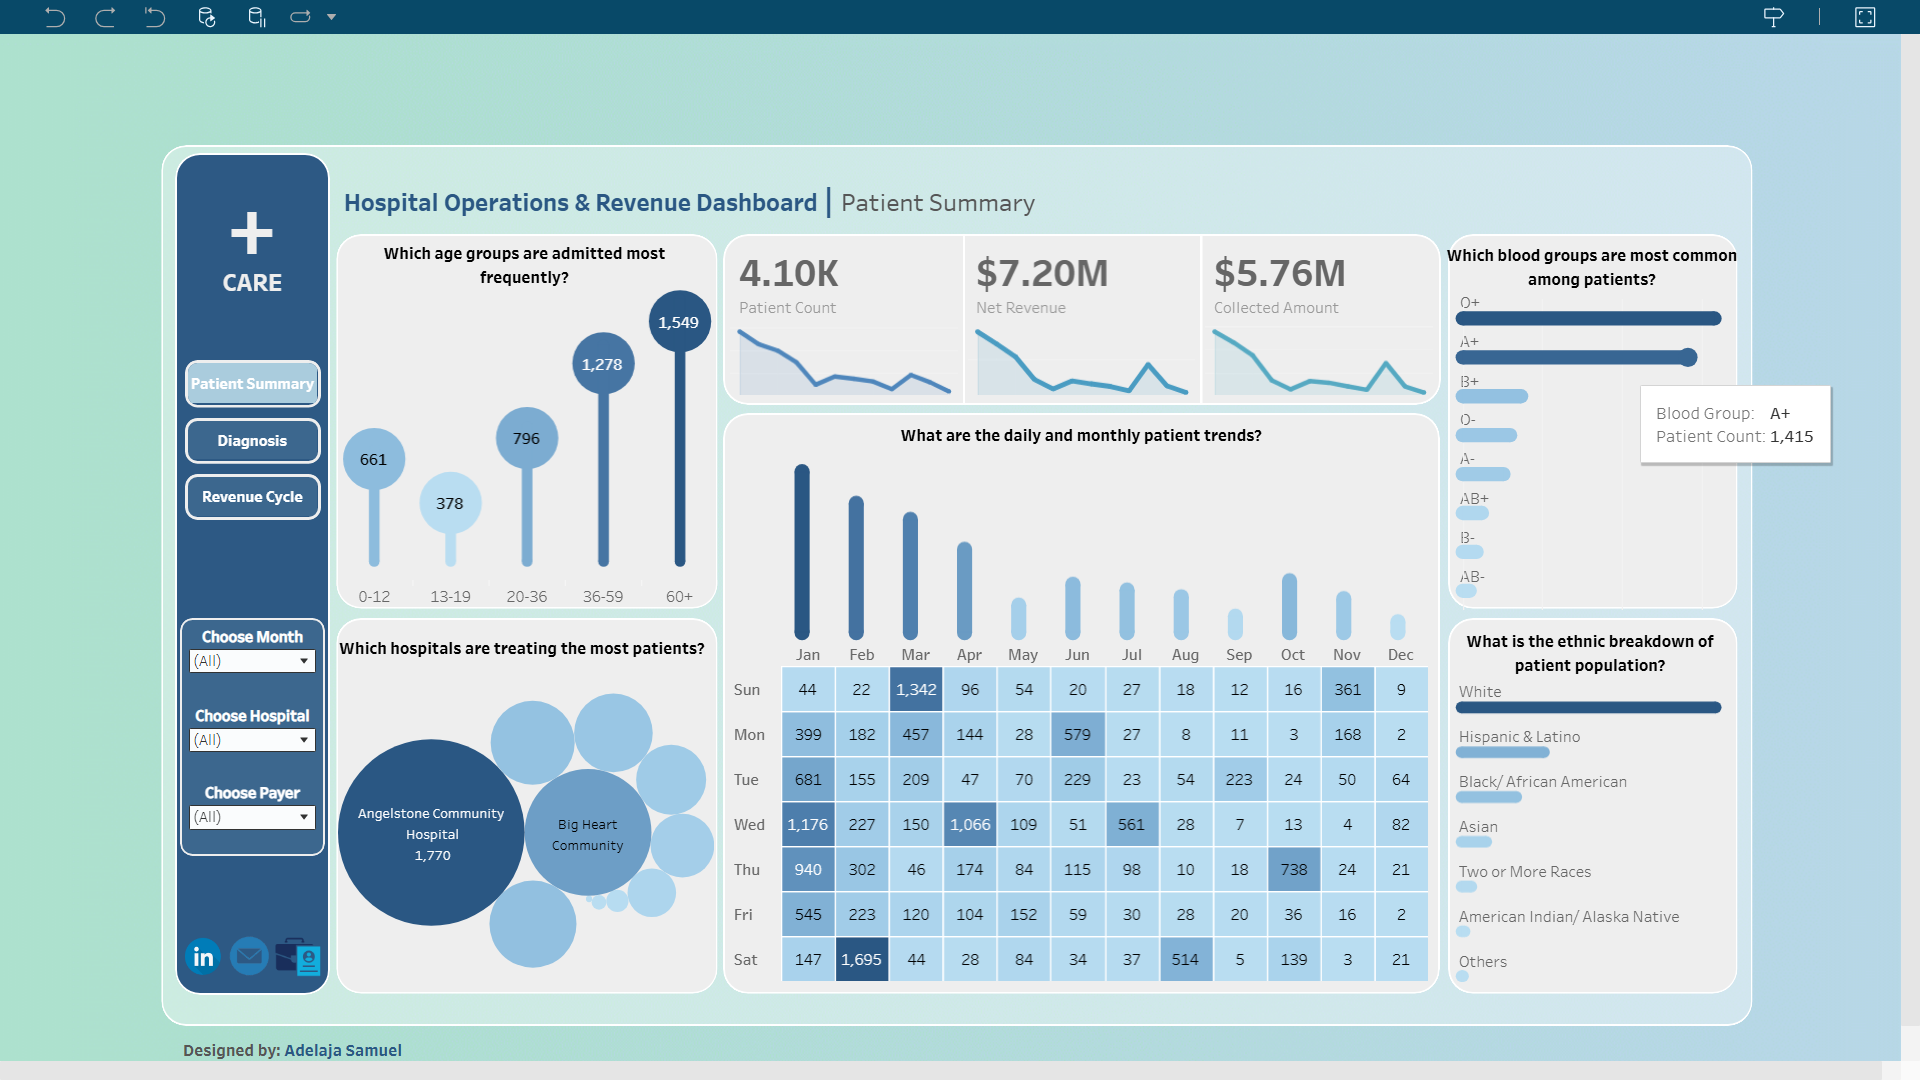

What the dashboard file says about the page in this screenshot:
{"tool":"tableau","page":{"name":"Patient Summary","canvas":[1000,1000],"units":"permille","ordinal":2},"visuals":[{"type":"text","box":[179.2,116.3,414,78.7]},{"type":"text","box":[92.9,142.2,76.6,79.9]},{"type":"worksheet","title":"Patient Count","mark":"Automatic","box":[379.7,182.2,123.4,100.7]},{"type":"worksheet","title":"Net Revenue","mark":"Automatic","box":[503.1,182.2,123.4,100.7]},{"type":"worksheet","title":"Collected Amount","mark":"Automatic","box":[626.6,182.2,123.4,100.7]},{"type":"text","box":[752,184.5,154.5,69.3]},{"type":"text","box":[175.6,186.8,194.9,61.1]},{"type":"blank","box":[501.5,188,1.2,159.8]},{"type":"blank","box":[625.2,188,1.2,159.8]},{"type":"text","box":[93.5,212.7,75.4,40]},{"type":"worksheet","title":"Age Group","mark":"Line","rows":["Calculation_0639937944064003"],"box":[175,231.5,198.6,309.1]},{"type":"worksheet","title":"BG Label","mark":"Shape","rows":["BloodGroup"],"box":[756.2,233.8,23.5,294.9]},{"type":"worksheet","title":"Blood Grouping","mark":"Line","rows":["BloodGroup"],"box":[751.4,249.1,151.5,293.8]},{"type":"worksheet","title":"Patient Count Spark","mark":"Line","rows":["Calculation_0639937944064003","Calculation_0639937944064003"],"cols":["Month"],"box":[377.8,270.3,123.6,74]},{"type":"worksheet","title":"Net Revenue Spark","mark":"Area","rows":["Calculation_0346372984979461","Calculation_0346372984979461"],"cols":["Month"],"box":[501.4,270.3,123.6,74]},{"type":"worksheet","title":"Collected Amt Spark","mark":"Automatic","rows":["Calculation_0870012787228673","Calculation_0870012787228673"],"cols":["Month"],"box":[625,270.3,123.6,74]},{"type":"dashboard-object","box":[93.2,302,76.6,53.7]},{"type":"text","box":[428.5,341.9,269.2,69.3]},{"type":"dashboard-object","box":[93.2,355.7,76.6,53.7]},{"type":"worksheet","title":"Patient Monthly","mark":"Line","cols":["Month"],"box":[403.9,397.2,338.4,181]},{"type":"dashboard-object","box":[93.2,409.4,76.6,52.7]},{"type":"worksheet","title":"Filters","mark":"Automatic","box":[408,455.9,333.1,332.6]},{"type":"text","box":[174.4,547.6,194.9,61.1]},{"type":"text","box":[753.2,548.8,149.7,69.3]},{"type":"filter","title":"Filters","param":"[federated.0z8uwsd0tka1uq18ebl20149izpv].[none:Month:nk]","box":[94.8,552.2,74,73.8]},{"type":"worksheet","title":"Patient Weekly-Monthly","mark":"Square","rows":["DayName"],"cols":["Date"],"box":[378.4,572.3,365.1,319.6]},{"type":"worksheet","title":"Race Label","mark":"Shape","rows":["Ethinicity"],"box":[755.6,598.1,149.1,296.1]},{"type":"worksheet","title":"Hospital Visits","mark":"Circle","box":[175.6,599.3,196.1,302]},{"type":"worksheet","title":"Race","mark":"Line","rows":["Ethinicity"],"box":[751.4,613.4,151.5,293.8]},{"type":"filter","title":"Filters","param":"[federated.0z8uwsd0tka1uq18ebl20149izpv].[none:LocationName:nk]","box":[94.8,626.1,74,73.8]},{"type":"filter","title":"Filters","param":"[federated.0z8uwsd0tka1uq18ebl20149izpv].[none:PayerName:nk]","box":[94.8,699.9,74,72.9]},{"type":"image","param":"C:/Users/HomePC/Pictures/Projects/socials/trans gmail.png","box":[107.4,828.4,44.7,78.7]},{"type":"image","param":"C:/Users/HomePC/Pictures/Projects/socials/social_16033412.png","box":[96.6,847.2,18.7,42.3]},{"type":"image","param":"C:/Users/HomePC/Pictures/Projects/socials/portfolio_18526710.png","box":[143,847.2,24.1,43.5]},{"type":"text","box":[81.5,937.7,141.8,35.2]}]}

Visuals, with their boxes on the dashboard's canvas, which has no fixed pixel size, in thousandths of its width and height (x1, y1, x2, y2). These are canvas units, not pixel positions in the 1920x1080 screenshot, which may show the page scaled, cropped or inside an application window:
text: l=179, t=116, r=593, b=195
text: l=93, t=142, r=170, b=222
"Patient Count" worksheet: l=380, t=182, r=503, b=283
"Net Revenue" worksheet: l=503, t=182, r=626, b=283
"Collected Amount" worksheet: l=627, t=182, r=750, b=283
text: l=752, t=184, r=906, b=254
text: l=176, t=187, r=370, b=248
blank: l=502, t=188, r=503, b=348
blank: l=625, t=188, r=626, b=348
text: l=94, t=213, r=169, b=253
"Age Group" worksheet (Line marks): l=175, t=232, r=374, b=541
"BG Label" worksheet (Shape marks): l=756, t=234, r=780, b=529
"Blood Grouping" worksheet (Line marks): l=751, t=249, r=903, b=543
"Patient Count Spark" worksheet (Line marks): l=378, t=270, r=501, b=344
"Net Revenue Spark" worksheet (Area marks): l=501, t=270, r=625, b=344
"Collected Amt Spark" worksheet: l=625, t=270, r=749, b=344
dashboard-object: l=93, t=302, r=170, b=356
text: l=428, t=342, r=698, b=411
dashboard-object: l=93, t=356, r=170, b=409
"Patient Monthly" worksheet (Line marks): l=404, t=397, r=742, b=578
dashboard-object: l=93, t=409, r=170, b=462
"Filters" worksheet: l=408, t=456, r=741, b=788
text: l=174, t=548, r=369, b=609
text: l=753, t=549, r=903, b=618
"Filters" filter: l=95, t=552, r=169, b=626
"Patient Weekly-Monthly" worksheet (Square marks): l=378, t=572, r=744, b=892
"Race Label" worksheet (Shape marks): l=756, t=598, r=905, b=894
"Hospital Visits" worksheet (Circle marks): l=176, t=599, r=372, b=901
"Race" worksheet (Line marks): l=751, t=613, r=903, b=907
"Filters" filter: l=95, t=626, r=169, b=700
"Filters" filter: l=95, t=700, r=169, b=773
image: l=107, t=828, r=152, b=907
image: l=97, t=847, r=115, b=890
image: l=143, t=847, r=167, b=891
text: l=82, t=938, r=223, b=973
